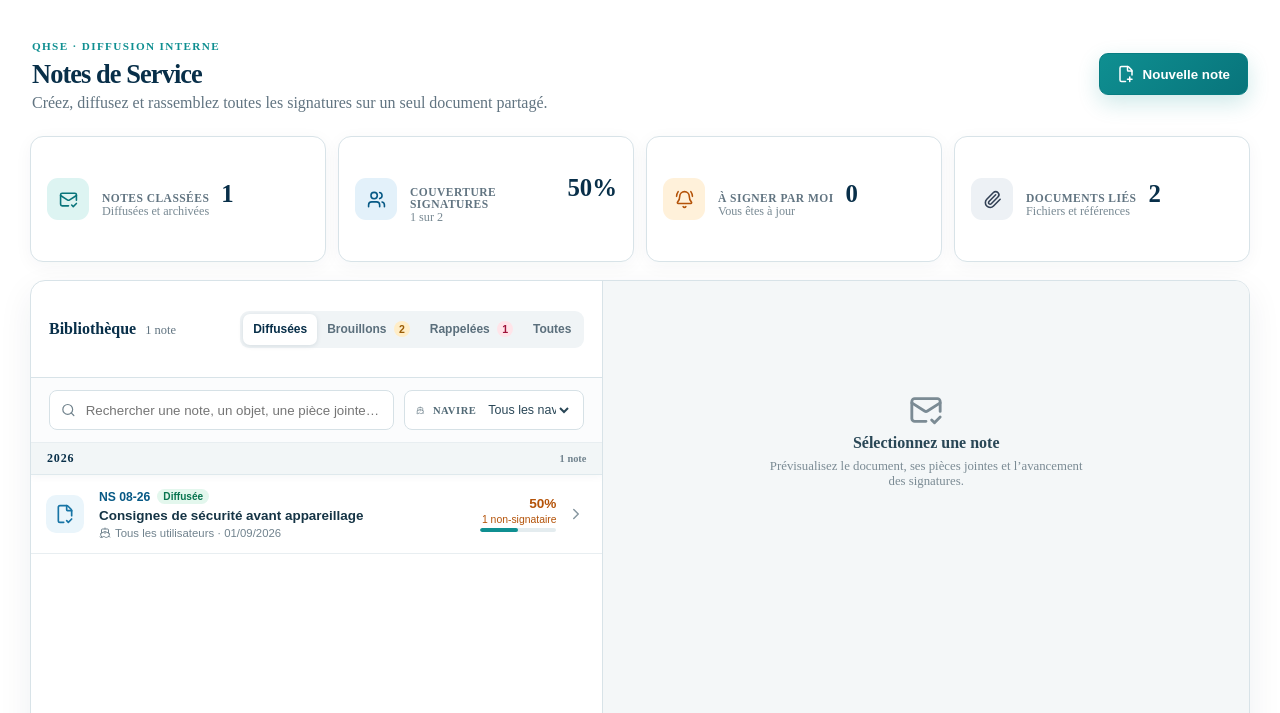
Test case: ServiceNotesPage › hides the temporary correction entry on published notes without changing workflow actions
Expected: the heading "Notes de Service" is shown, [32,59,202,89]
What coordinates should you click on to do the following:
click the text "NS 08-26"
I would click on:
 (125, 496)
Its box is [99,490,150,504].
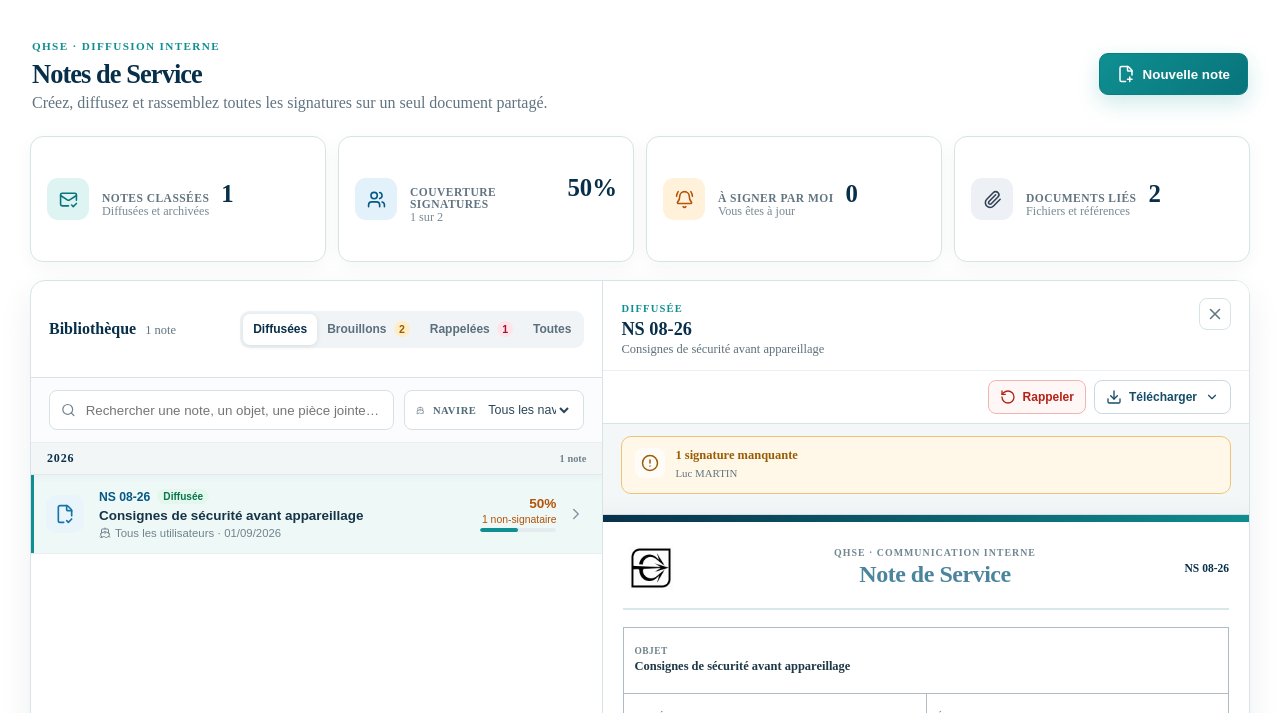
Result: the button "Rappeler" is shown at [988,380,1086,414]
Result: the button "Télécharger" is shown at [1094,380,1231,414]
